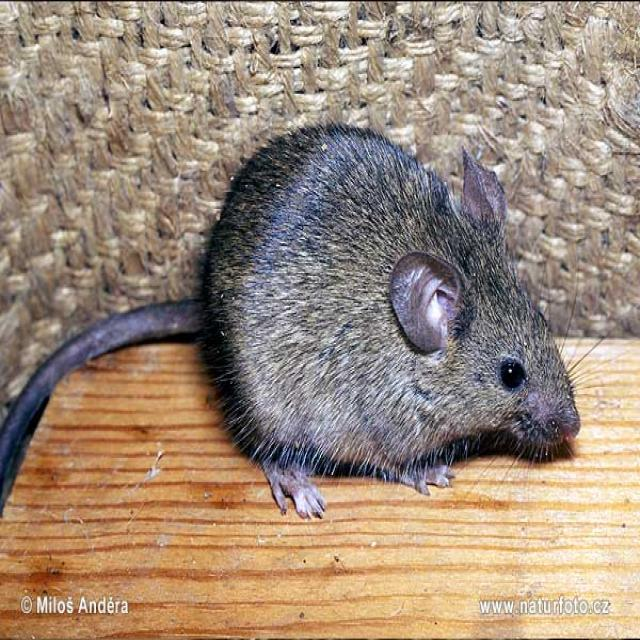rat: (0, 114, 616, 530)
